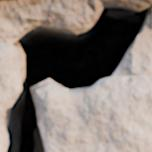brick: (109, 0, 151, 7)
broken_brick: (37, 74, 151, 151), (0, 40, 20, 135)
crack: (0, 0, 151, 151)
